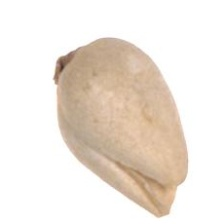L1: (140, 174, 187, 217), (50, 47, 79, 83)
L2: (53, 37, 189, 217)
